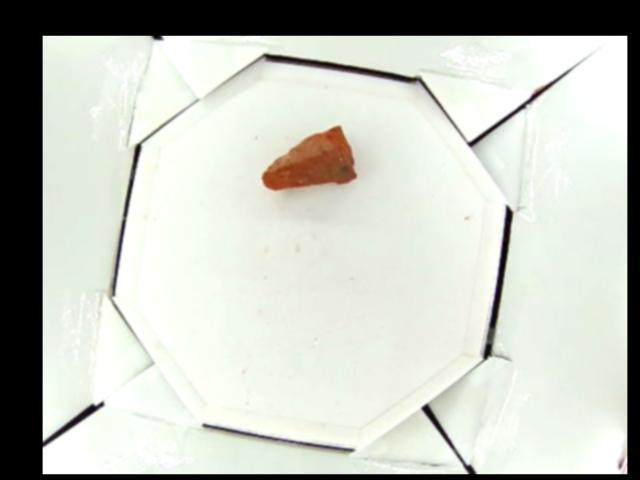Brisk: (260, 124, 356, 191)
